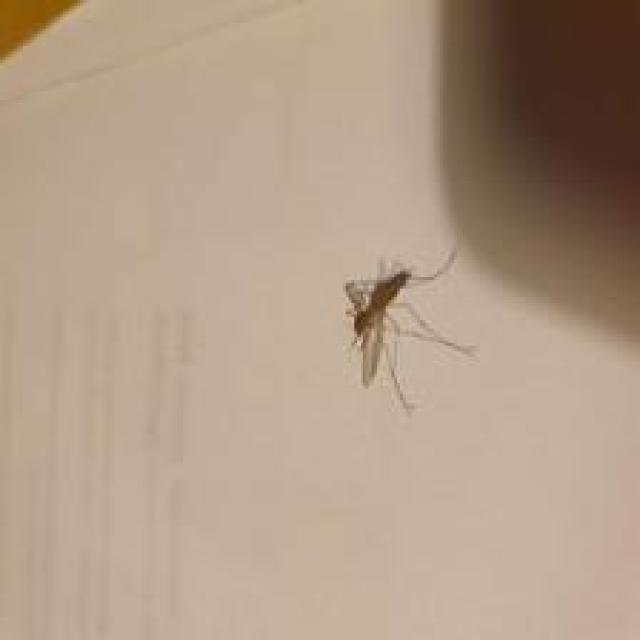Culex: (342, 246, 478, 414)
